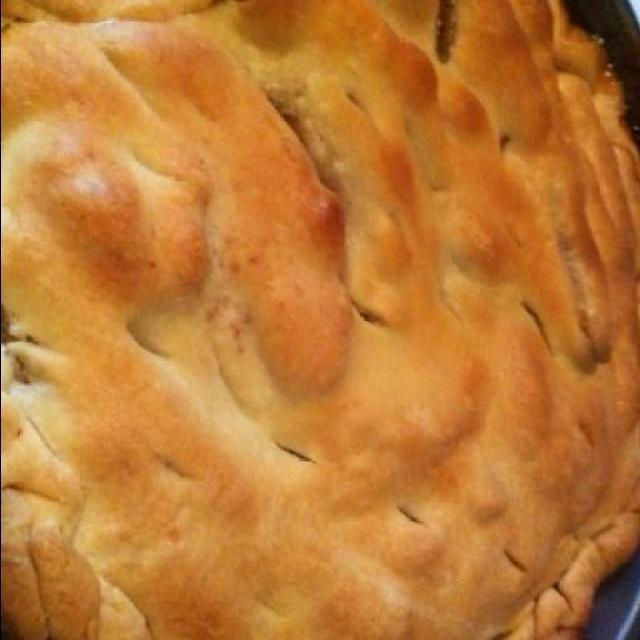Apple: (8, 0, 630, 638)
